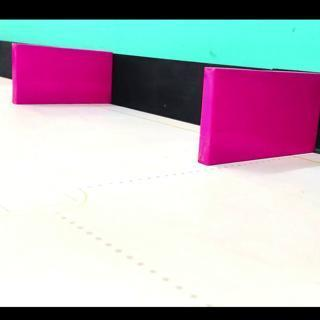xparking: (206, 76, 315, 168), (15, 58, 110, 110)
